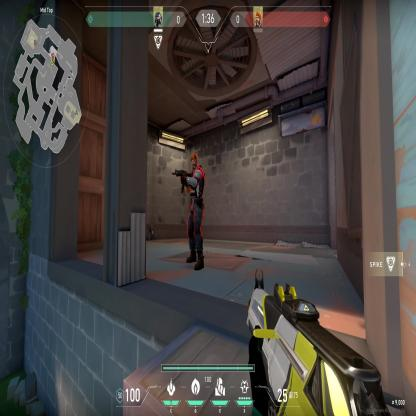enemy: (178, 146, 206, 272)
